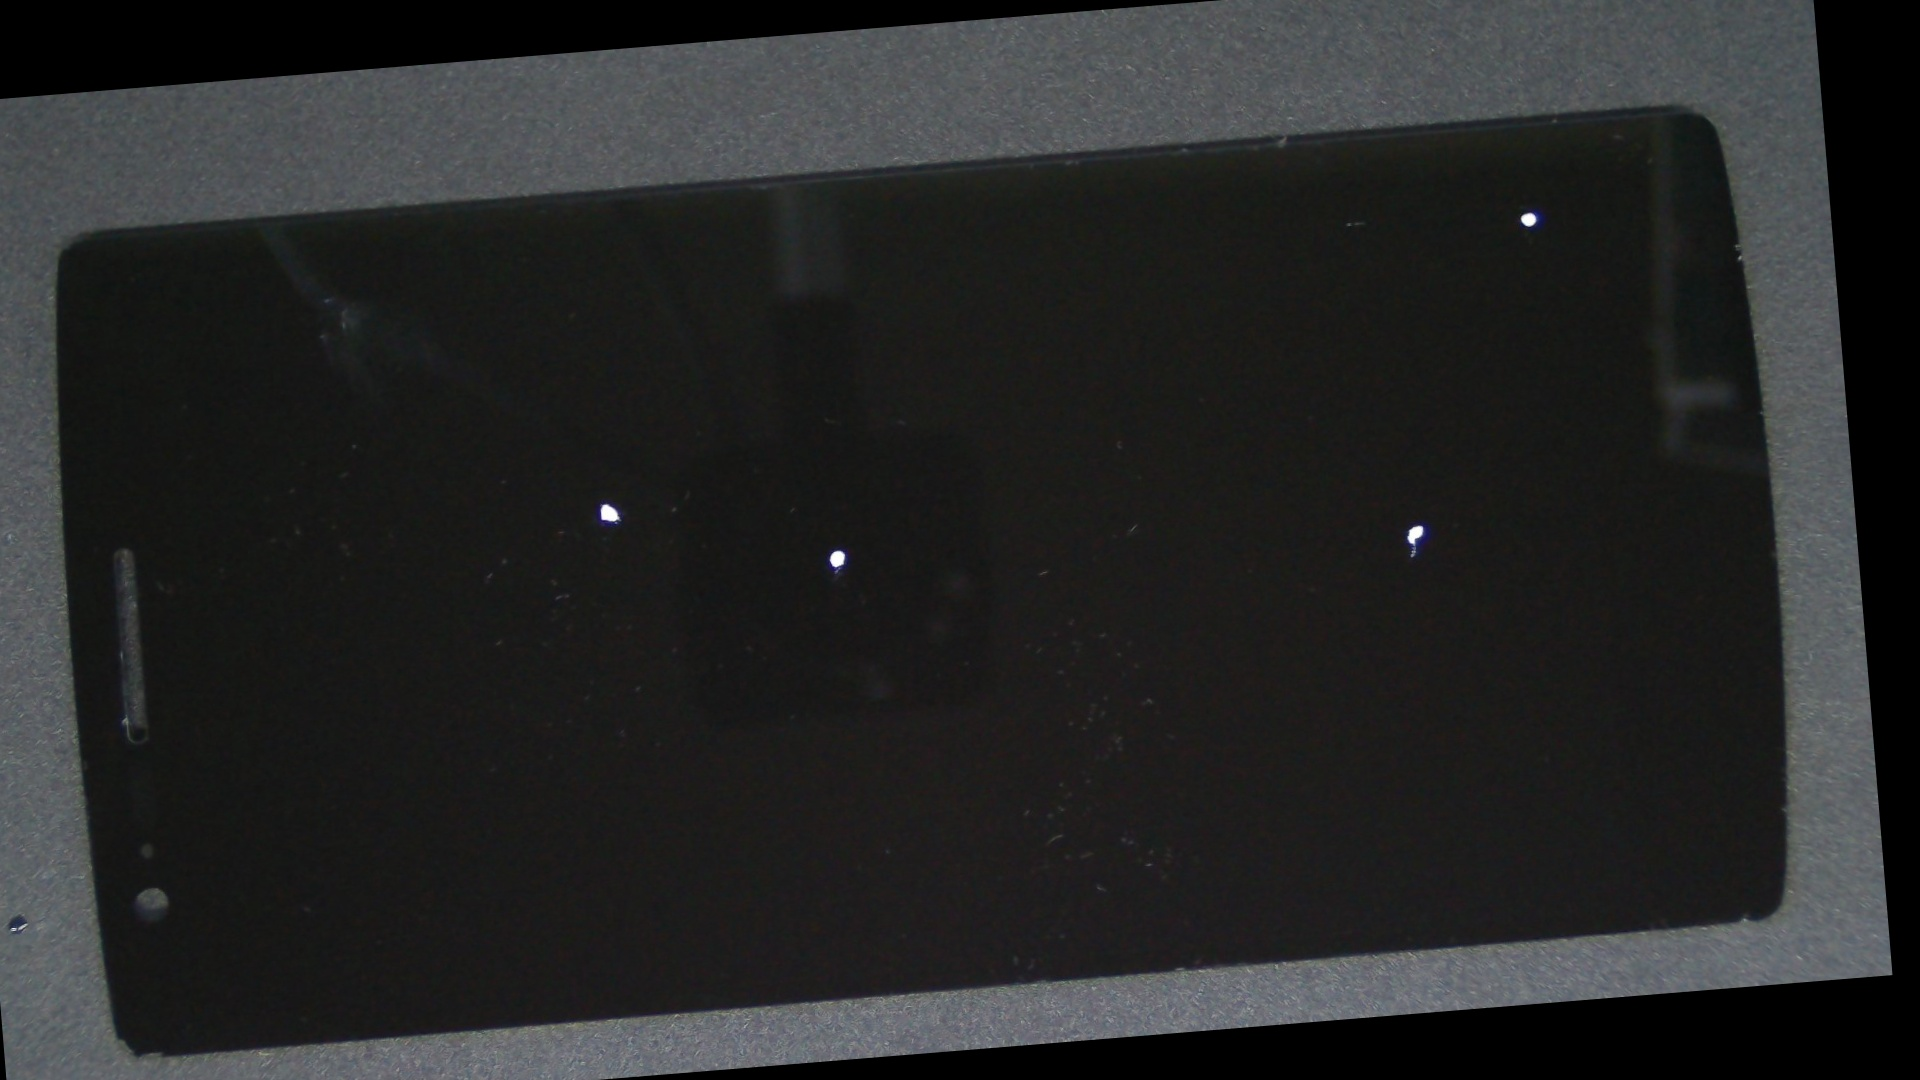oil: (675, 220, 1875, 851), (385, 256, 1296, 843), (731, 70, 1838, 393), (264, 252, 938, 753)
